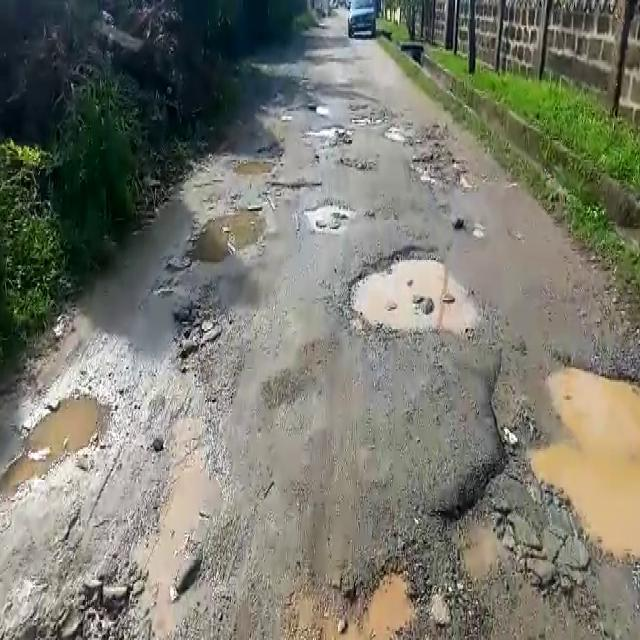pothole: (440, 346, 640, 640), (338, 243, 483, 337), (0, 568, 141, 640), (14, 385, 114, 470), (181, 209, 266, 263), (178, 297, 235, 372), (411, 150, 472, 196), (306, 200, 352, 234), (259, 177, 324, 193)
